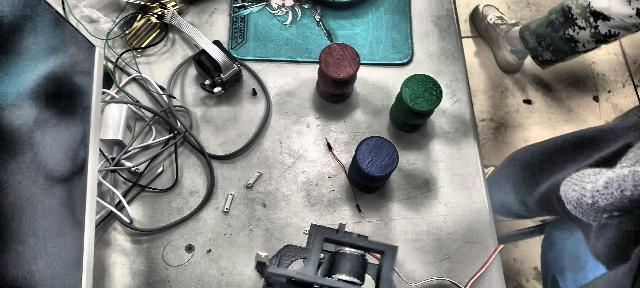blue: (348, 135, 398, 193)
green: (389, 75, 444, 135)
red: (314, 41, 365, 108)
